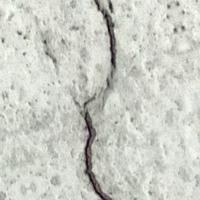crack: (45, 0, 150, 199)
